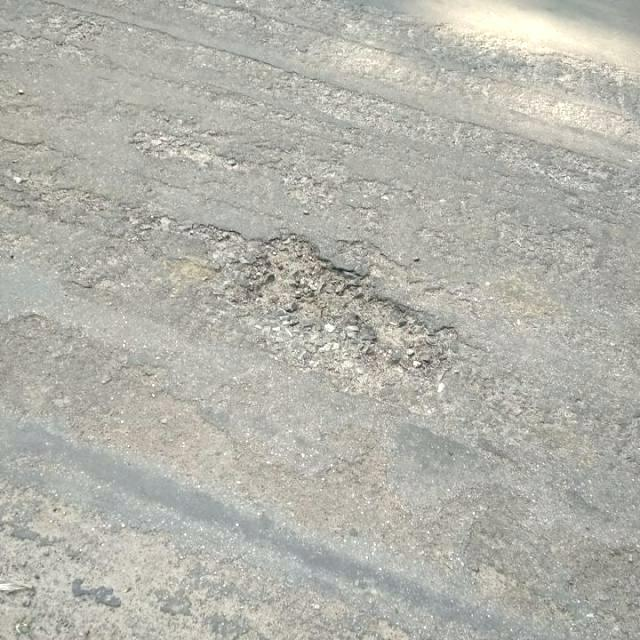Pothole: (239, 226, 460, 377), (132, 128, 243, 171)
